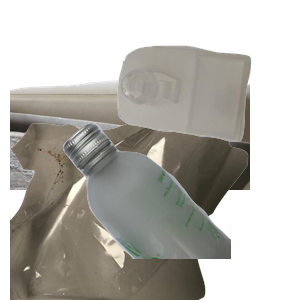glass: (60, 120, 300, 300)
paper: (10, 77, 250, 257)
plastic: (115, 43, 300, 177)
trash: (10, 120, 250, 300)
